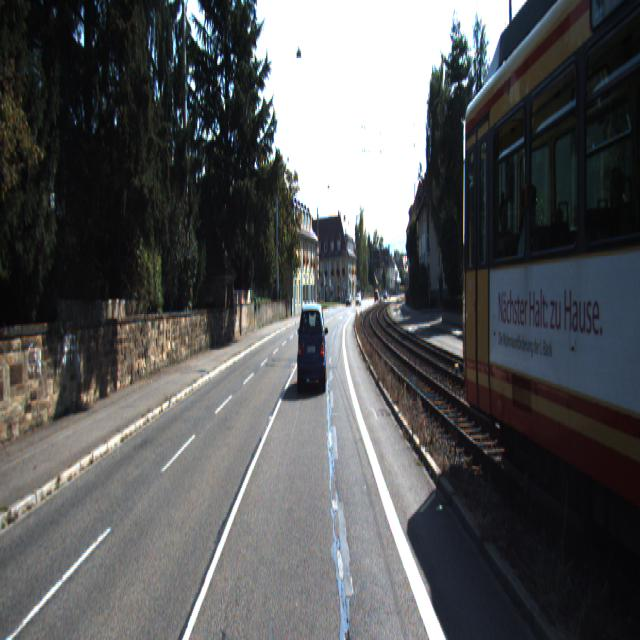Car: (460, 0, 640, 635), (298, 302, 328, 398)
